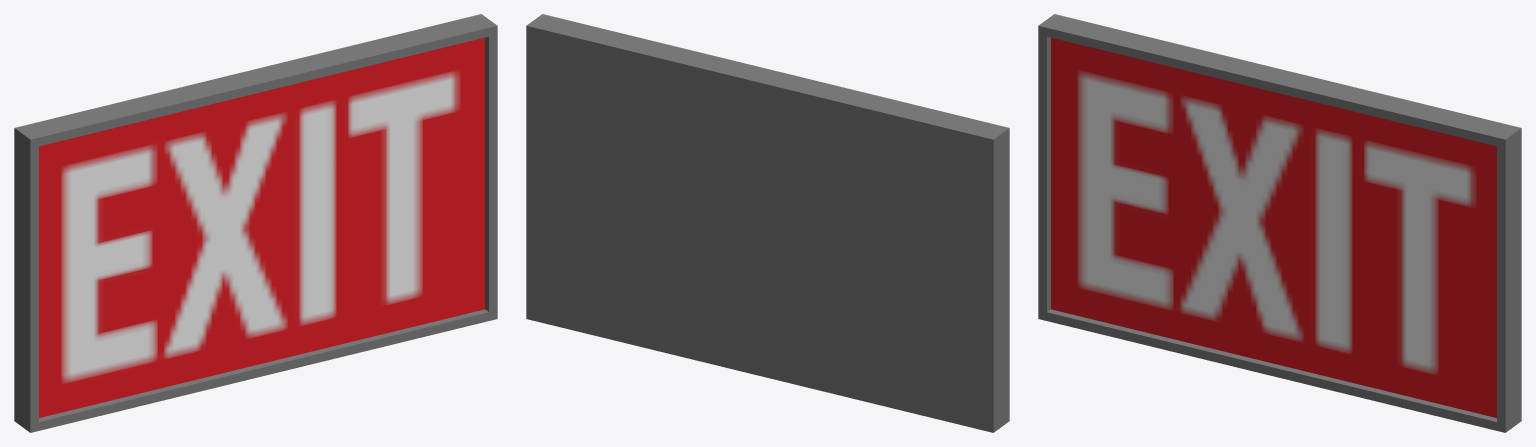
File: Int_ExitSign01_1.fbx
3 renders of one model, left to right at view 1: azimuth 30°, elevation 25°; view 2: azimuth 150°, elevation 25°; view 3: azimuth 330°, elevation 25°, orthographic.
Parts seen in each view (by area): view 1: Int_ExitSign01_1; view 2: Int_ExitSign01_1; view 3: Int_ExitSign01_1.
Boxes of the visible parts, x1,y1,x2,y2 form: Int_ExitSign01_1: [14, 14, 497, 432]; Int_ExitSign01_1: [526, 14, 1009, 432]; Int_ExitSign01_1: [1038, 14, 1521, 432].
Size of what is drawn, in the model's own units: 50 by 2.98 by 30.
1 material, 1 textured.
